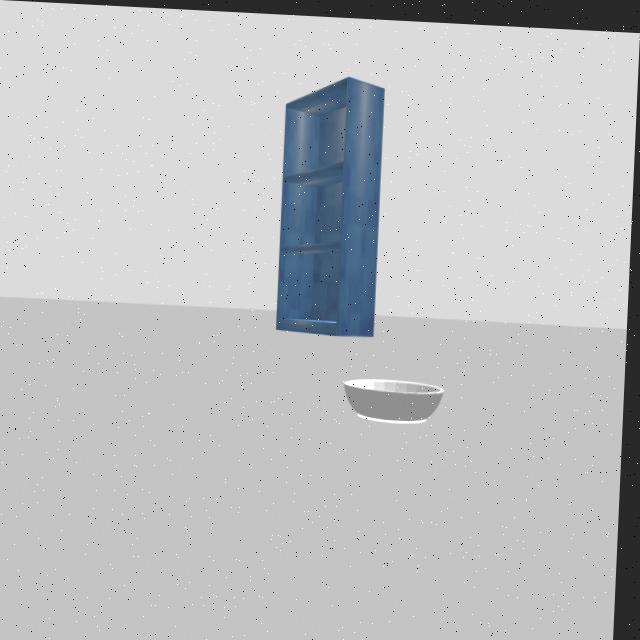bowl: (337, 362, 455, 434)
shelf: (258, 51, 407, 345)
